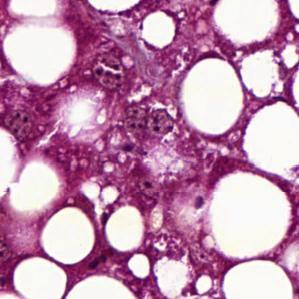steatosis: (180, 53, 244, 140), (39, 207, 95, 265), (105, 203, 146, 252)
